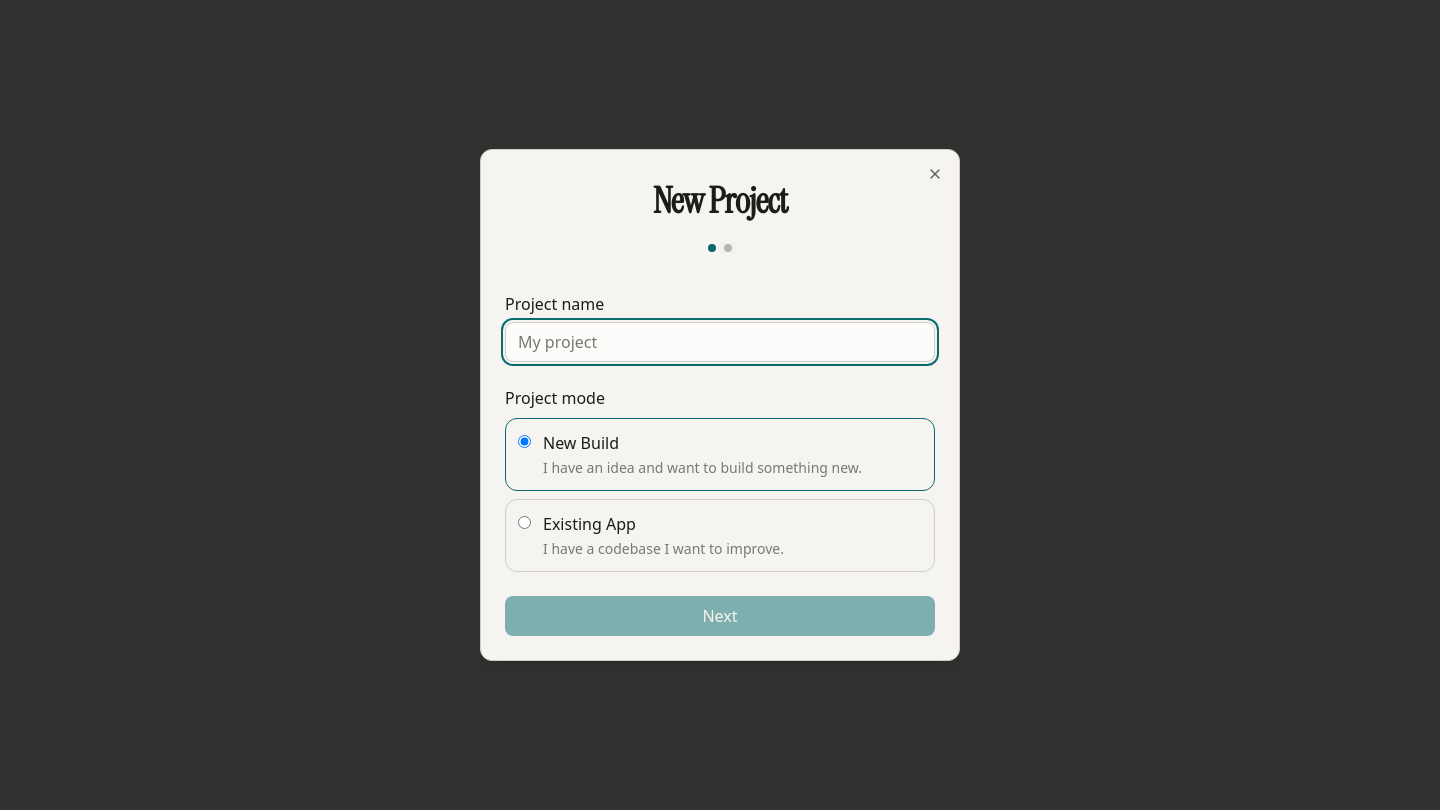
it: NewProjectDialog › advances to step 2 on Next click
This screenshot has width=1440, height=810.
Type "Test Project" into the field with placeholder "My project" at (720, 342), box [505,322,935,362]
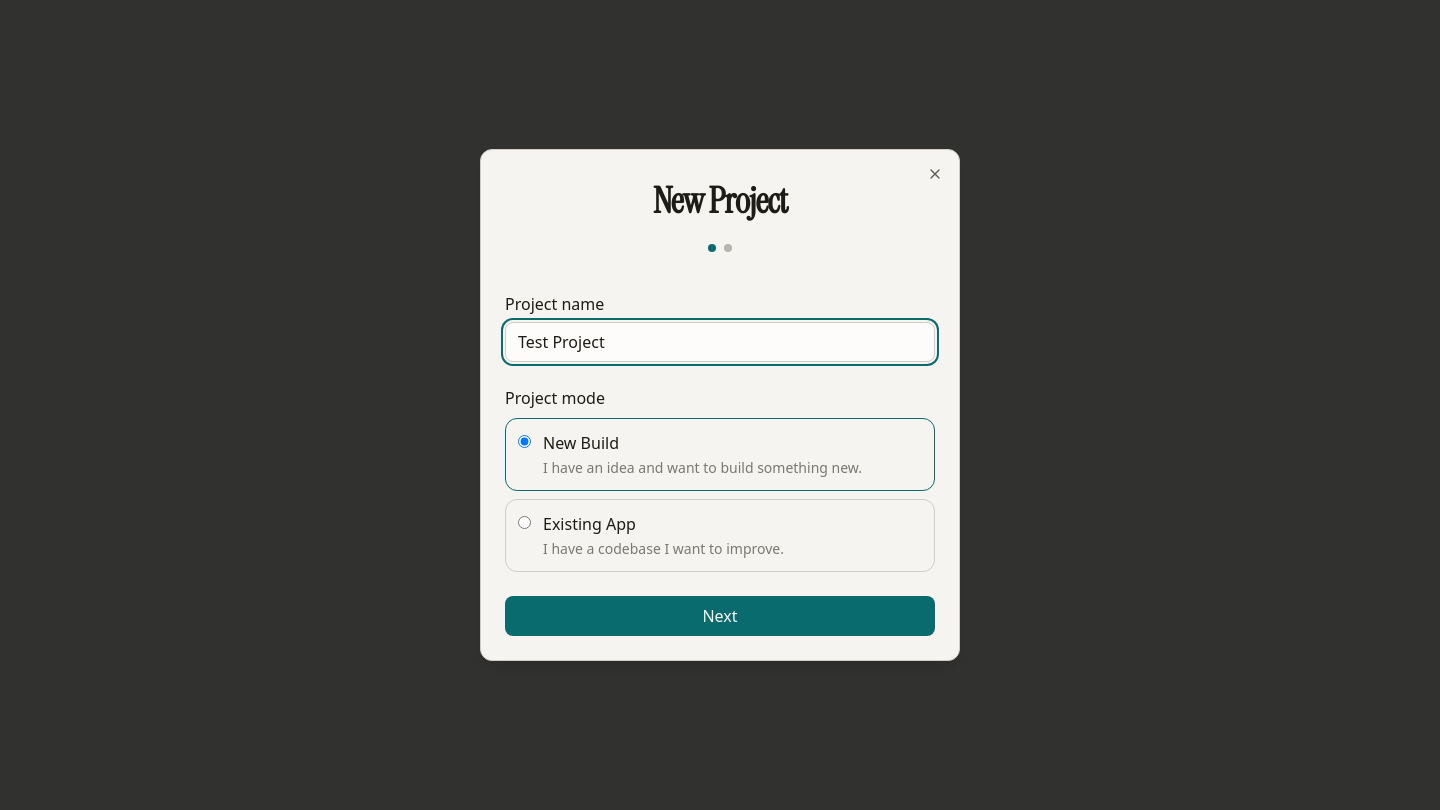
Click the button "Next" at (720, 616), box [505,596,935,636]
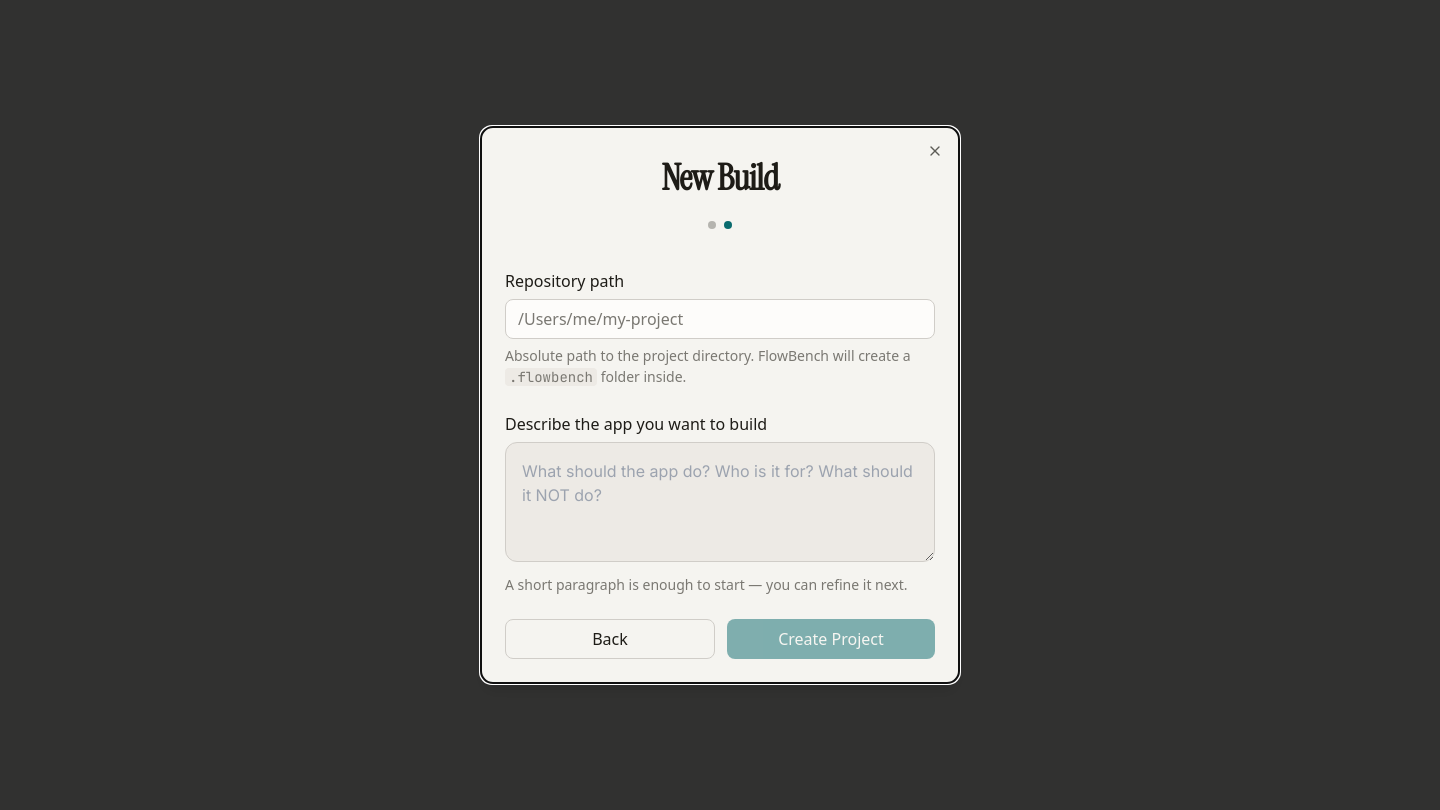
Result: the field with placeholder "/Users/me/my-project" is shown at [505,299,935,339]
